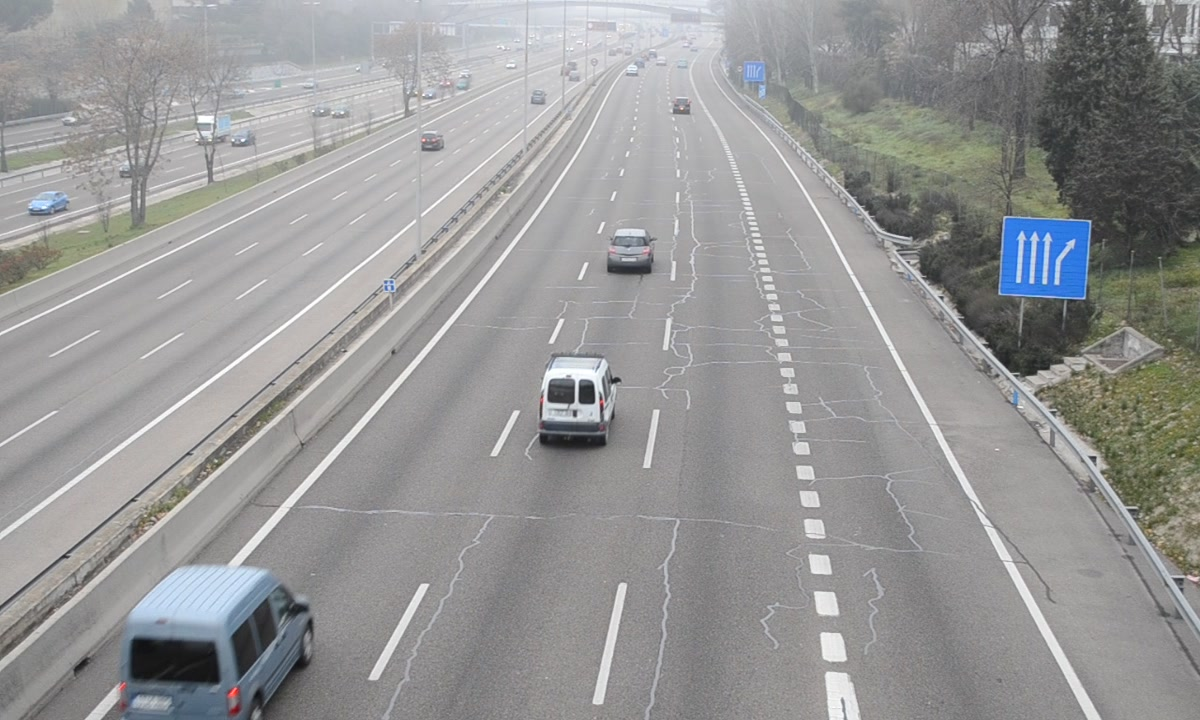car: (606, 228, 654, 271)
van: (116, 564, 316, 720), (537, 357, 616, 446)
